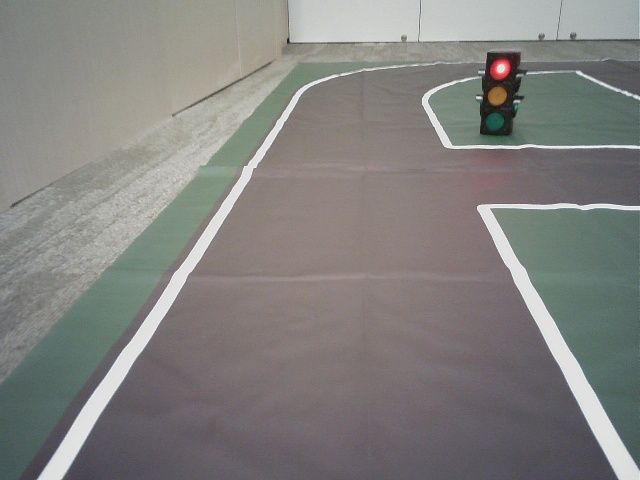red: (486, 52, 510, 131)
